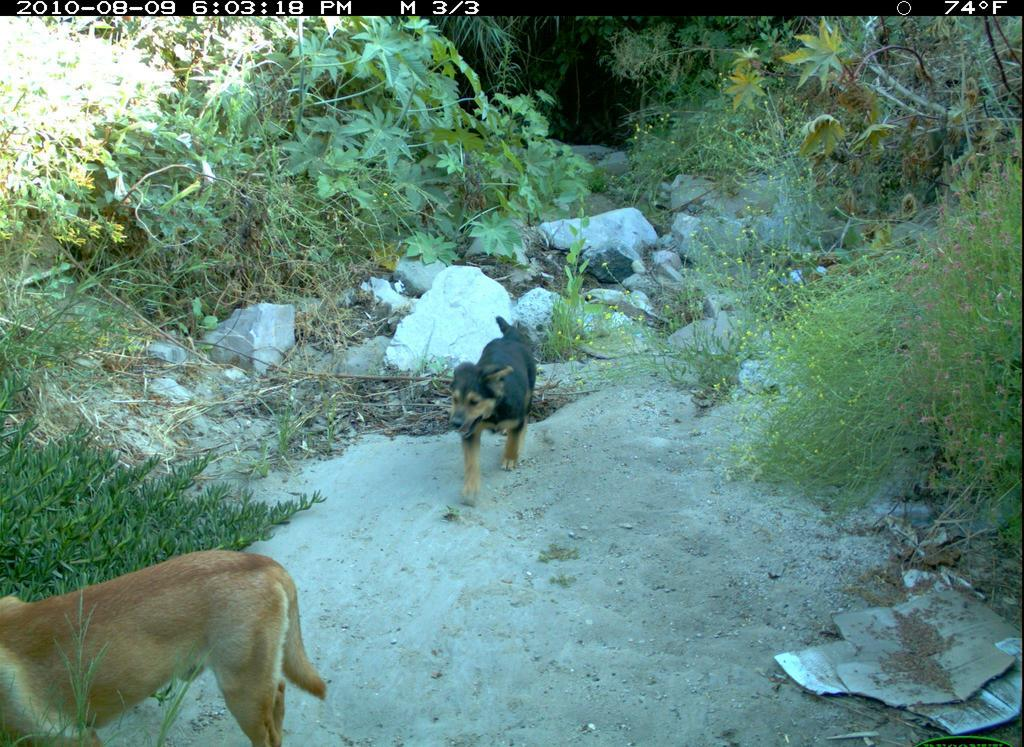dog: (6, 538, 331, 745), (438, 308, 551, 510)
